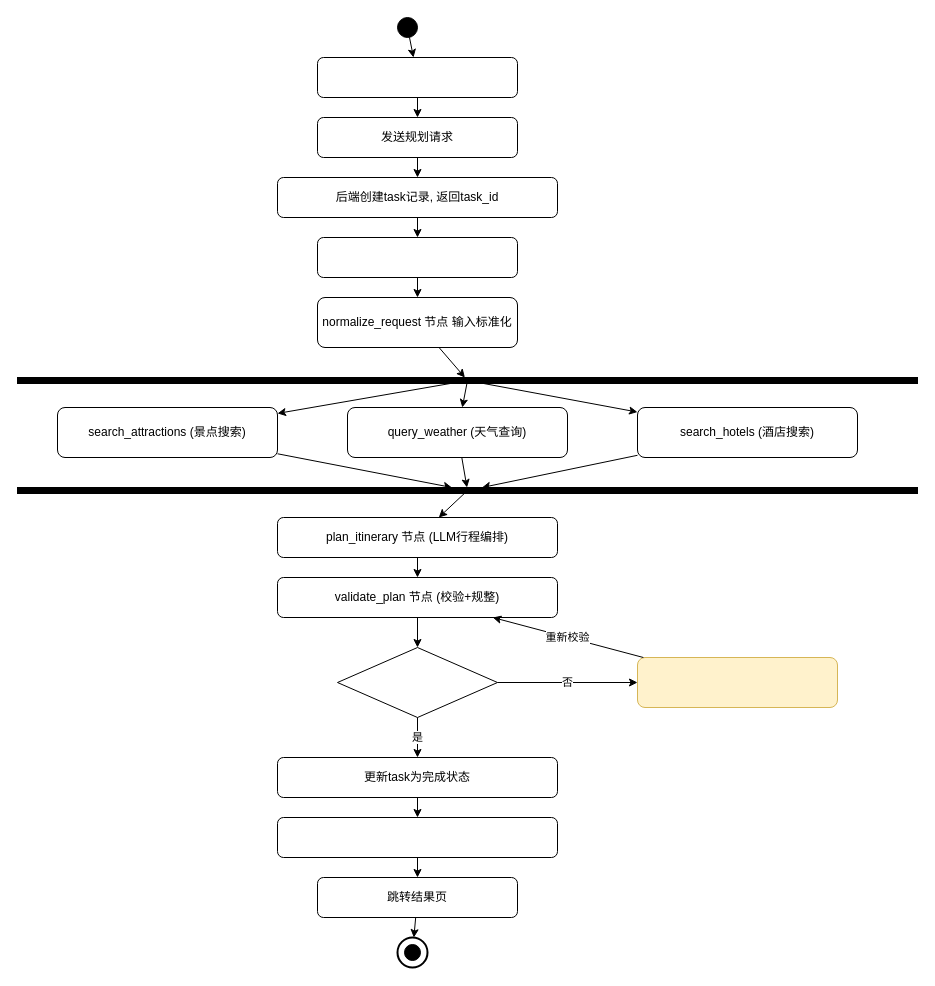
Some shapes in this 935 by 986 pixel diagram are drawn without their labels. The shapes that lost their labels are listed below. From the top down, each one's centre as x and y in pixels, then its label:
At (417,77): "用户填写规划参数".
At (417,257): "启动LangGraph异步任务".
At (417,682): "校验通过？".
At (737,682): "repair_plan 节点 (最多重试3次)".
At (417,837): "前端轮询获取最终结果".
